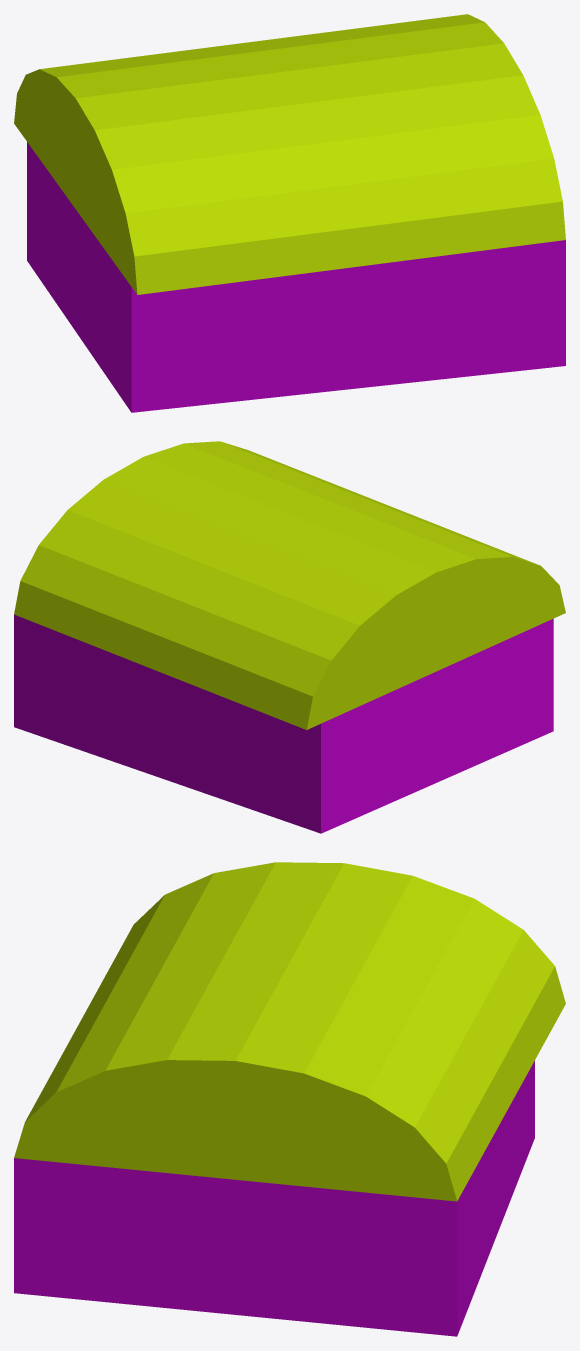
Rendered from vas_8.glb.
3 renders of one model, top to bottom at view 1: azimuth 30°, elevation 25°; view 2: azimuth 150°, elevation 25°; view 3: azimuth 270°, elevation 25°, orthographic. The views are drawn at different scales.
Parts seen in each view (by area): view 1: vas_8; view 2: vas_8; view 3: vas_8.
Boxes of the visible parts, box(x1,y1,x2,y2) form: vas_8: box(14, 14, 565, 412); vas_8: box(14, 441, 565, 833); vas_8: box(14, 862, 565, 1336).
Size of the model in its own units: 10.88 by 5.34 by 10.52.
